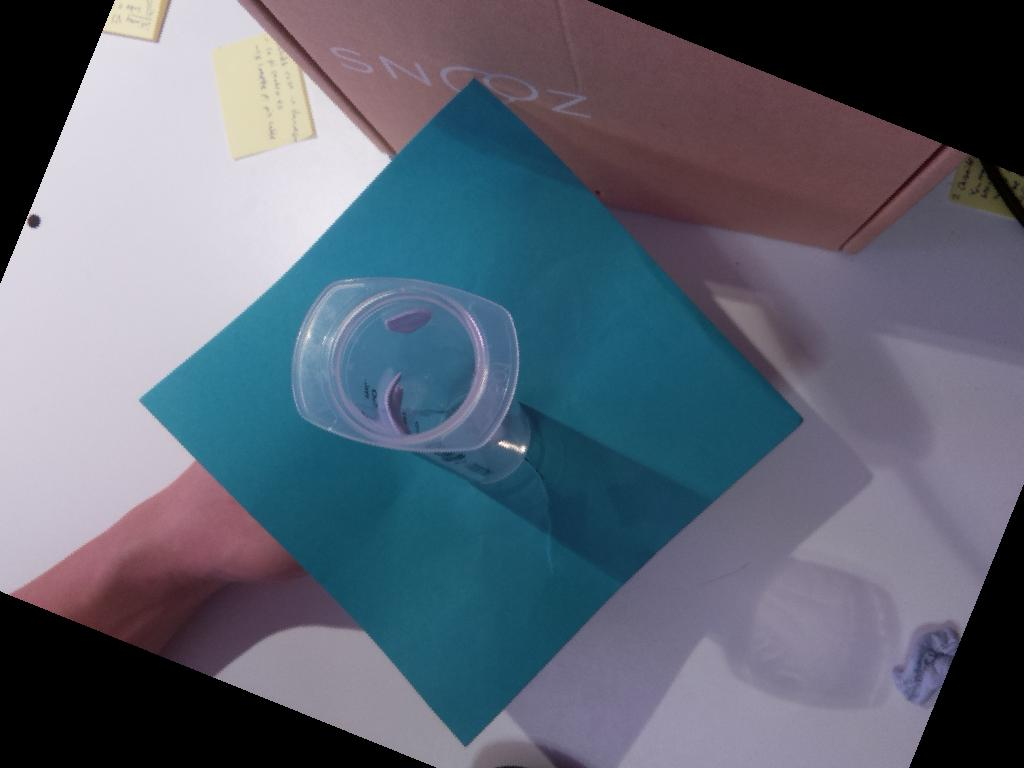dirty: (291, 278, 521, 454)
